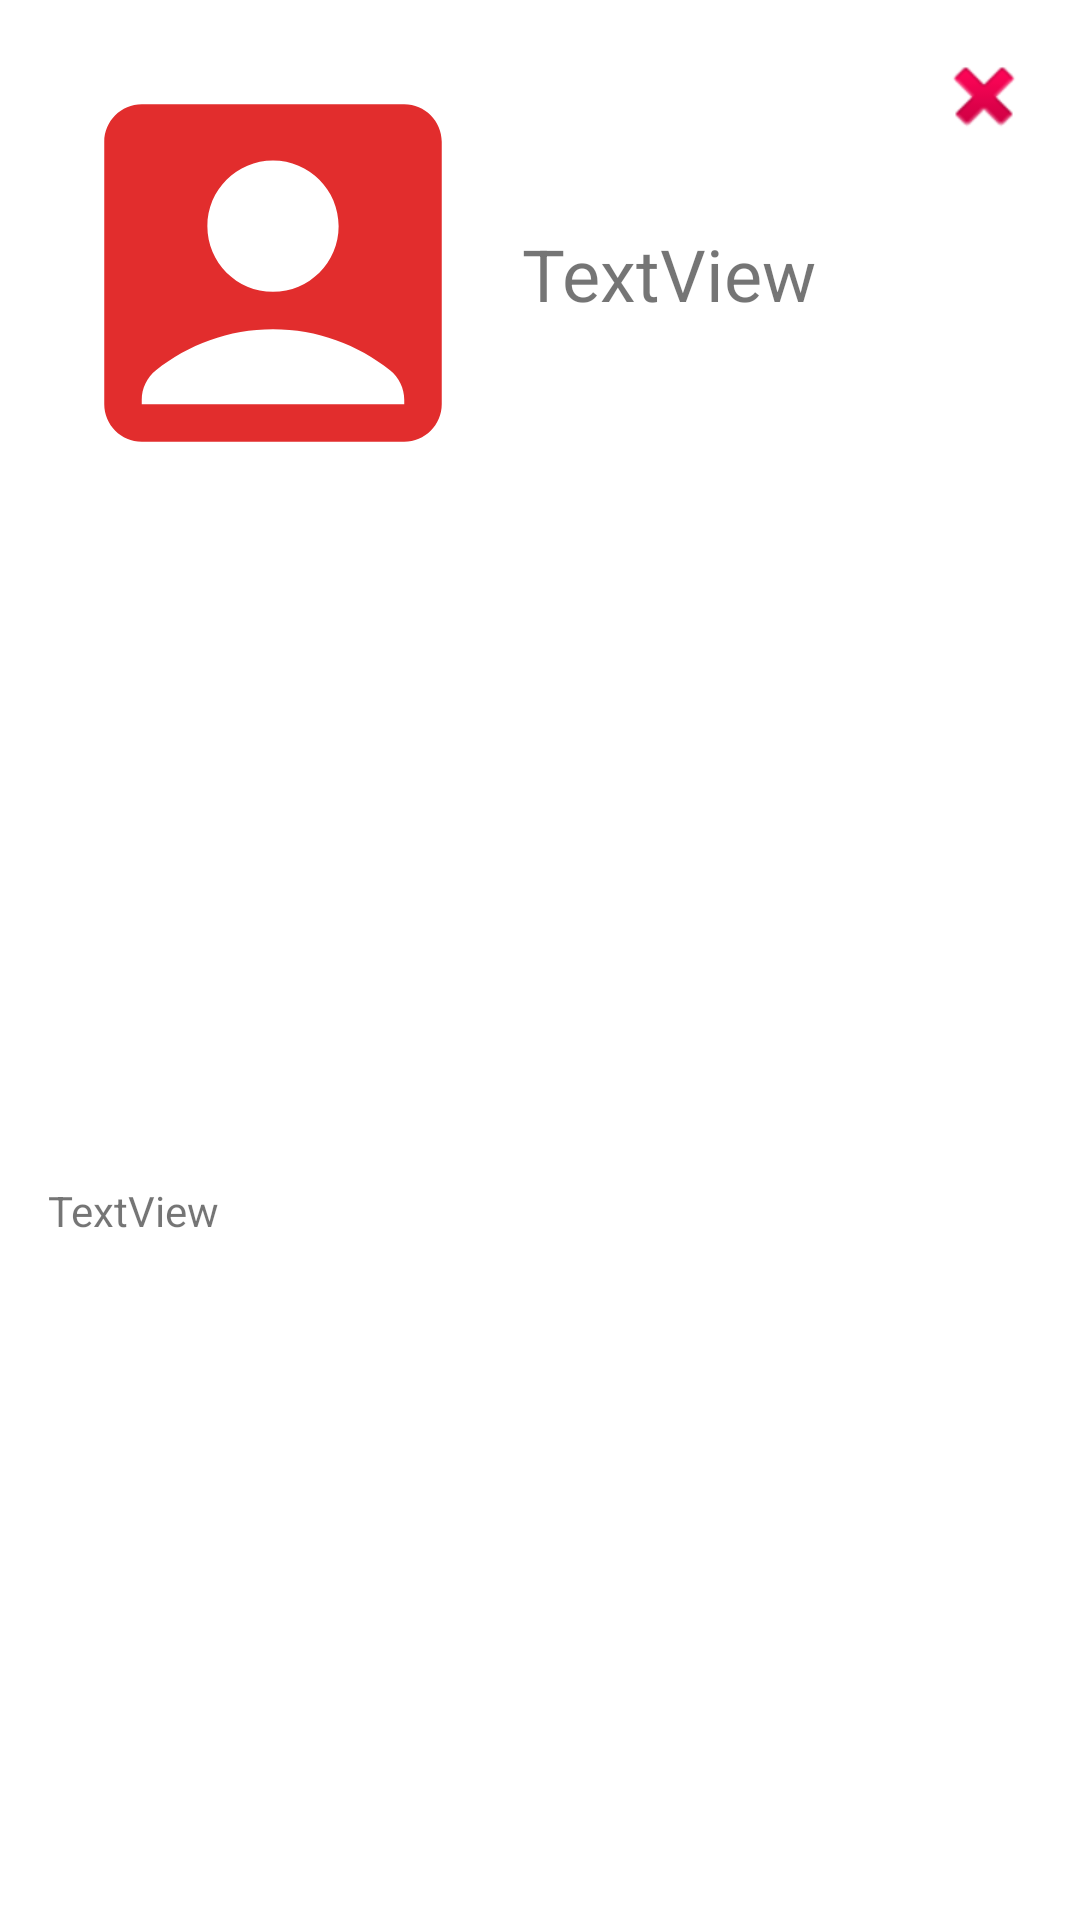

Named icons in this screenshot (1080 x 1920) and their centers, (x=x, y=y):
cuenta: (x=273, y=273)
delete: (x=984, y=96)
